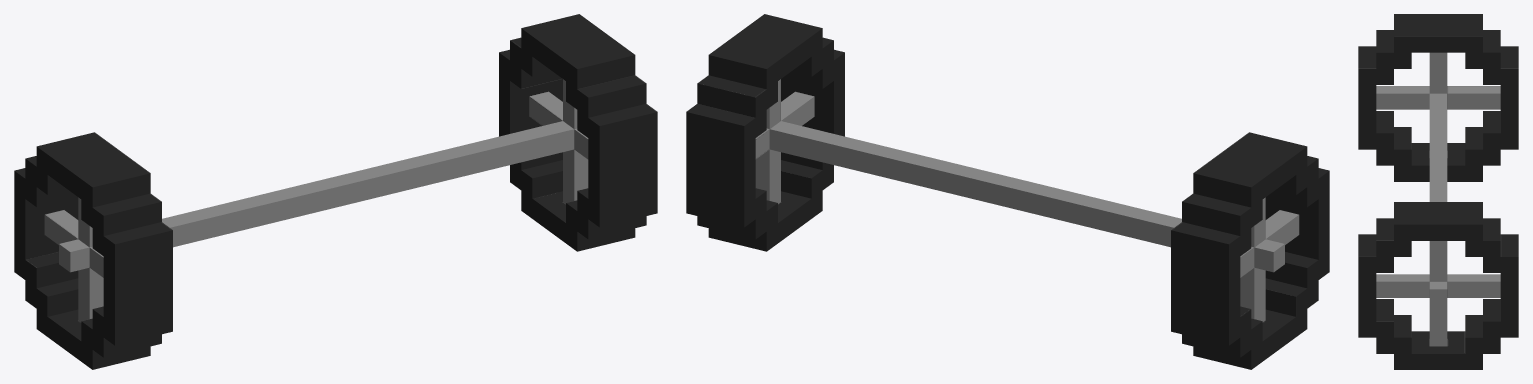
The model's file is TruckAndBus_Rim.obj.
3 renders of one model, left to right at view 1: azimuth 30°, elevation 25°; view 2: azimuth 150°, elevation 25°; view 3: azimuth 270°, elevation 25°, orthographic. The views are drawn at different scales.
Visible parts, largest first — view 1: TruckAndBus_Rim_TruckAndBus_Rim.001; view 2: TruckAndBus_Rim_TruckAndBus_Rim.001; view 3: TruckAndBus_Rim_TruckAndBus_Rim.001.
Part boxes in pixels (left/top/right/bottom): TruckAndBus_Rim_TruckAndBus_Rim.001: left=14, top=14, right=657, bottom=369; TruckAndBus_Rim_TruckAndBus_Rim.001: left=686, top=14, right=1329, bottom=369; TruckAndBus_Rim_TruckAndBus_Rim.001: left=1358, top=14, right=1518, bottom=369.
Bounding box in the file's own units: 2.8 × 0.9 × 0.9.
